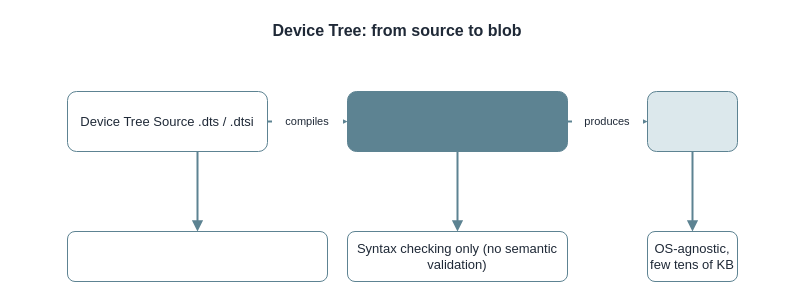
Some shapes in this 794 by 299 pixel diagram are drawn without their labels. Each missing label, with the box of its shape:
Device Tree Blob .dtb: (646, 90, 738, 152)
Device Tree Compiler dtc (+ C preprocessor): (346, 90, 568, 152)
Written by a developer tree of nodes + properties: (66, 230, 328, 282)
